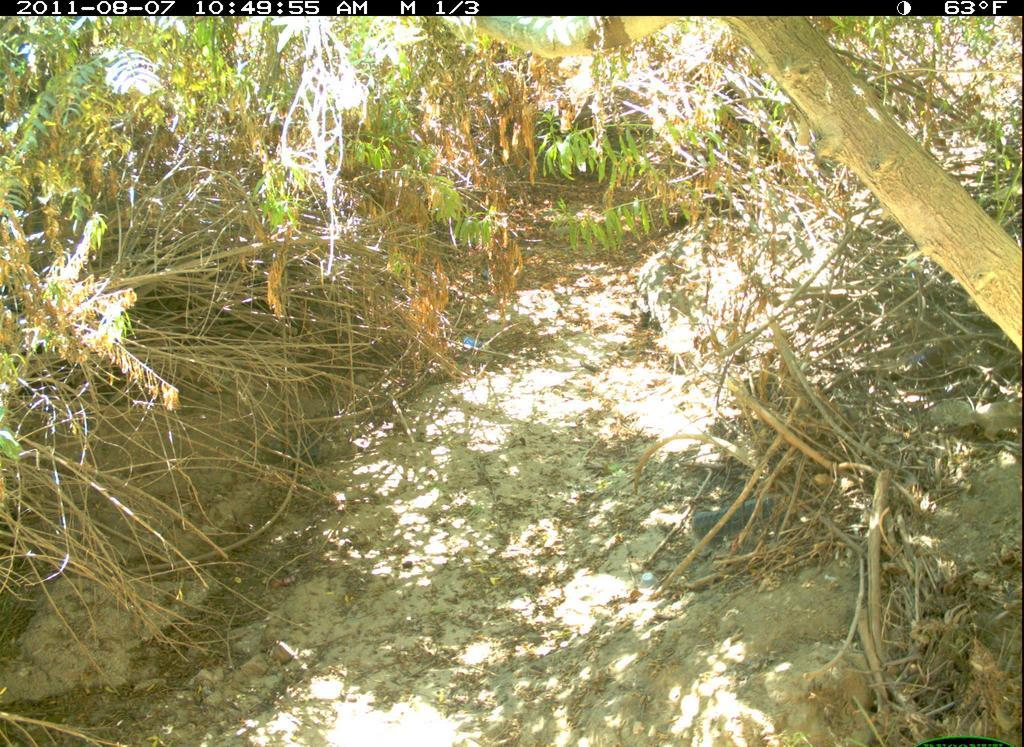squirrel: (930, 387, 1018, 455)
